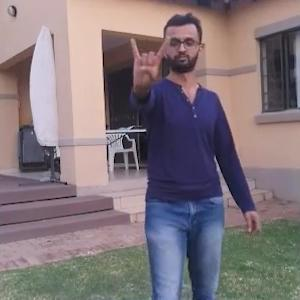takeoff-hand: (125, 27, 170, 91)
